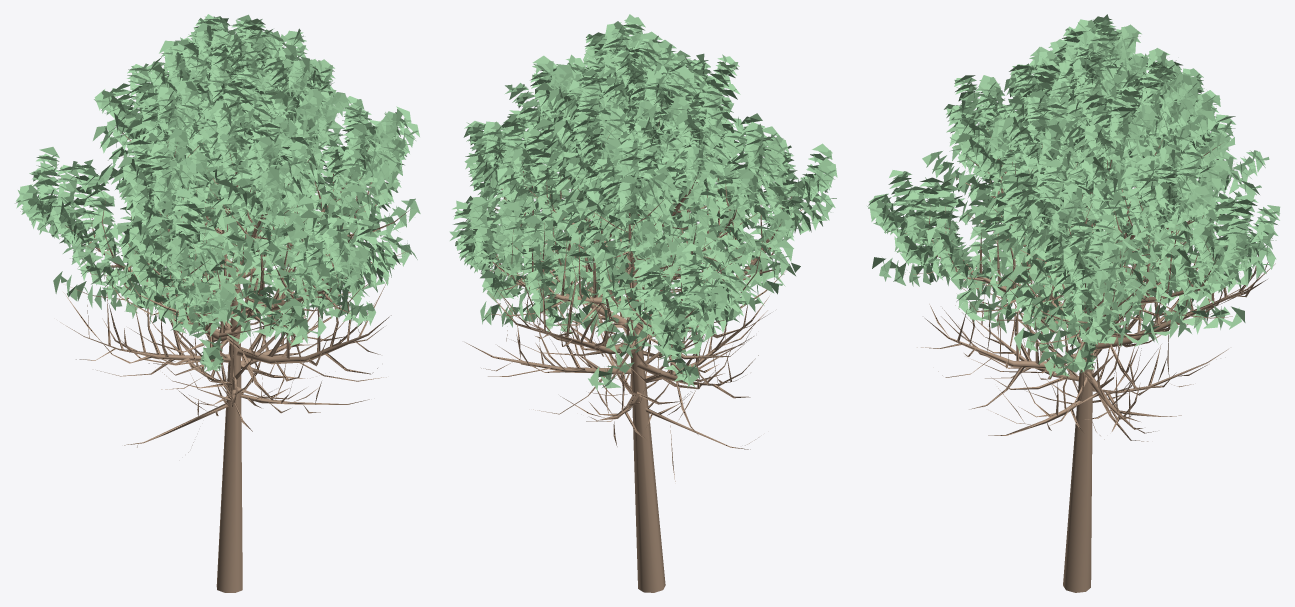
Rendered from arbol.glb.
3 views of the same model, side by side, from view 1: azimuth 30°, elevation 25°; view 2: azimuth 150°, elevation 25°; view 3: azimuth 270°, elevation 25° (orthographic).
Visible parts, largest first — view 1: objeto; view 2: objeto; view 3: objeto.
Part boxes in pixels (<box>): objeto: <box>15,14,420,592</box>; objeto: <box>449,14,837,592</box>; objeto: <box>867,14,1280,592</box>.
Size of the model in its own units: 6.96 by 10.99 by 7.24.
